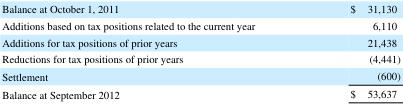table: (1, 1, 399, 101)
table column: (1, 1, 301, 101), (301, 1, 399, 101)
table row: (1, 83, 399, 101), (1, 16, 399, 33), (1, 49, 399, 66), (1, 66, 399, 83), (1, 33, 399, 49), (1, 1, 399, 16)
